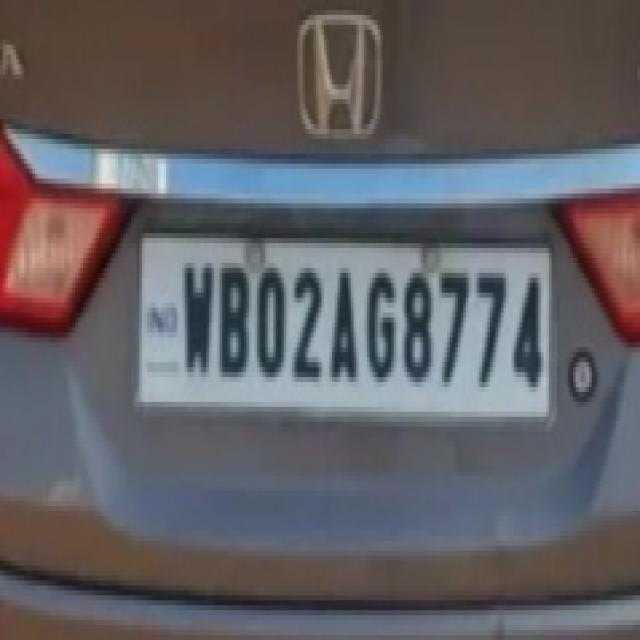0: (256, 257, 288, 386)
4: (512, 270, 561, 394)
7: (471, 255, 511, 396), (438, 258, 474, 399)
8: (398, 260, 436, 390)
A: (329, 262, 360, 388)
B: (217, 251, 251, 389)
G: (362, 258, 397, 385)
W: (182, 251, 216, 393)
